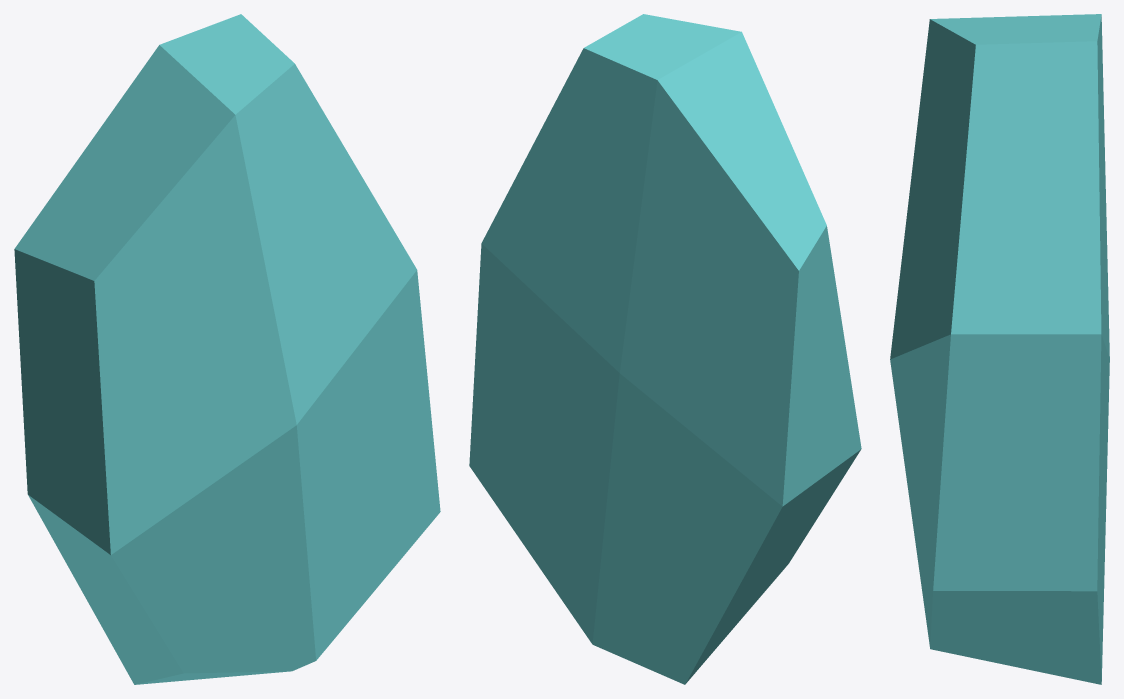
Rendered from MagicStone3.fbx.
3 renders of one model, left to right at view 1: azimuth 30°, elevation 25°; view 2: azimuth 150°, elevation 25°; view 3: azimuth 270°, elevation 25°, orthographic. The views are drawn at different scales.
Visible parts, largest first — view 1: cristal3; view 2: cristal3; view 3: cristal3.
Part boxes in pixels (<box>): cristal3: <box>14,14,440,684</box>; cristal3: <box>469,14,861,684</box>; cristal3: <box>890,14,1109,684</box>.
Bounding box in the file's own units: 46.51 × 82.52 × 24.49.
